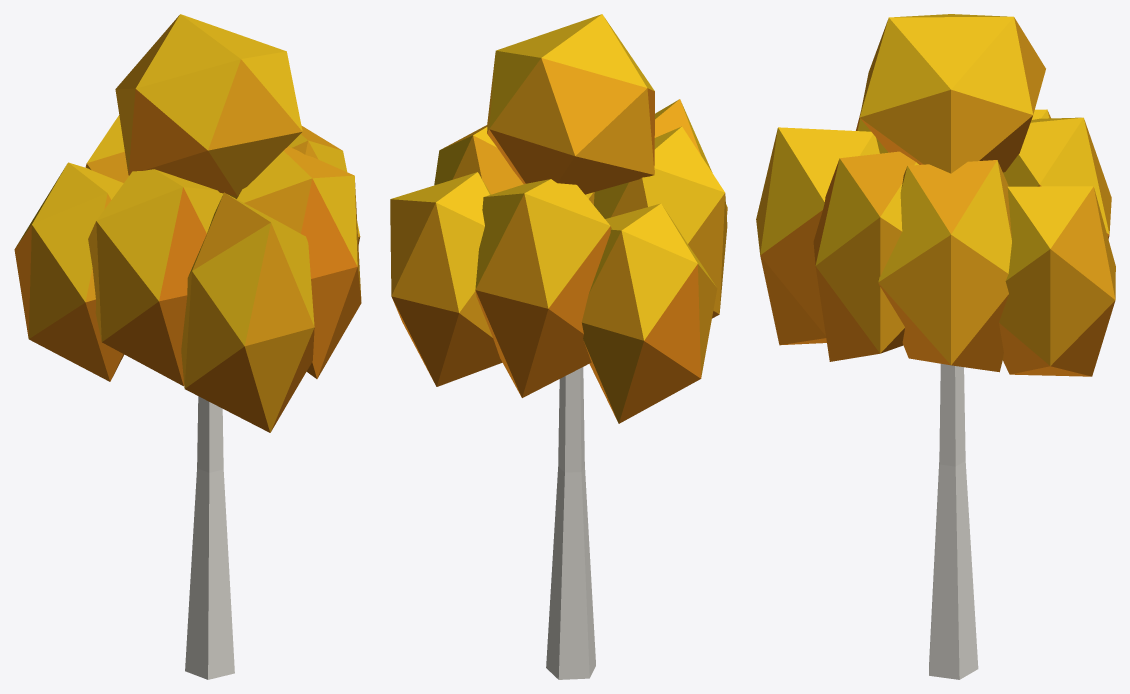
The model's file is birch_tree_lod.glb.
3 renders of one model, left to right at view 1: azimuth 30°, elevation 25°; view 2: azimuth 150°, elevation 25°; view 3: azimuth 270°, elevation 25°, orthographic. The views are drawn at different scales.
Parts seen in each view (by area): view 1: birch_tree_lod; view 2: birch_tree_lod; view 3: birch_tree_lod.
Part boxes in pixels (left/top/right/bottom): birch_tree_lod: left=14, top=14, right=361, bottom=679; birch_tree_lod: left=390, top=14, right=727, bottom=679; birch_tree_lod: left=756, top=14, right=1115, bottom=679.
Bounding box in the file's own units: 3.92 × 7.94 × 3.97.
